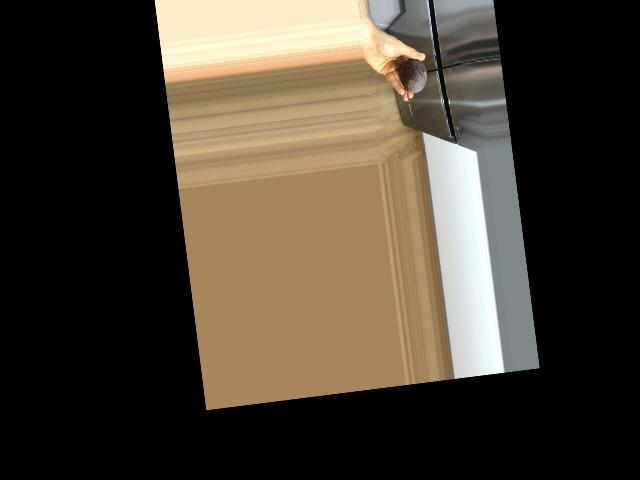beet: (398, 57, 432, 117)
